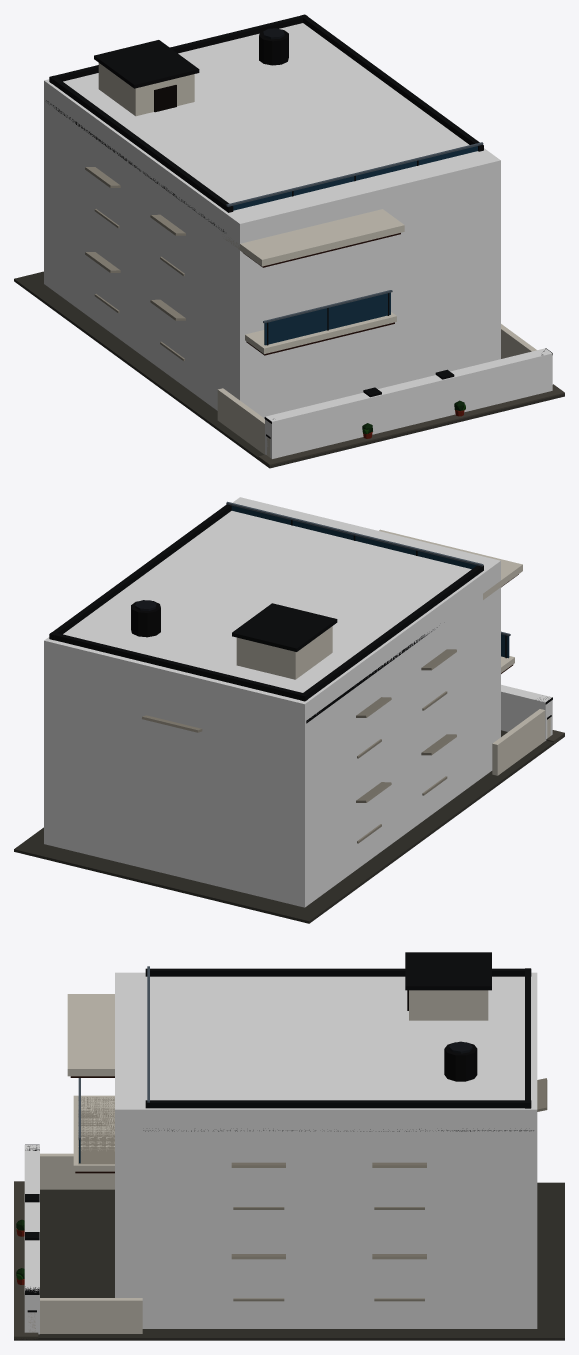
File: CHN_041_contemp_indep.glb
3 renders of one model, top to bottom at view 1: azimuth 30°, elevation 25°; view 2: azimuth 150°, elevation 25°; view 3: azimuth 270°, elevation 25°, orthographic. The views are drawn at different scales.
Parts seen in each view (by area): view 1: COL_Main, LOD0, COL_Compound; view 2: COL_Main, LOD0, COL_Compound; view 3: COL_Main, LOD0, COL_Compound.
Boxes of the visible parts, box(x1,y1,x2,y2) form: COL_Main: box(44, 23, 500, 418); LOD0: box(14, 14, 564, 468); COL_Compound: box(265, 348, 552, 458); COL_Main: box(44, 497, 500, 907); LOD0: box(14, 501, 564, 923); COL_Compound: box(501, 684, 552, 740); COL_Main: box(115, 972, 537, 1328); LOD0: box(14, 952, 564, 1340); COL_Compound: box(24, 1145, 39, 1334).
Size of what is drawn, in the model's own units: 12 by 9.29 by 18.
